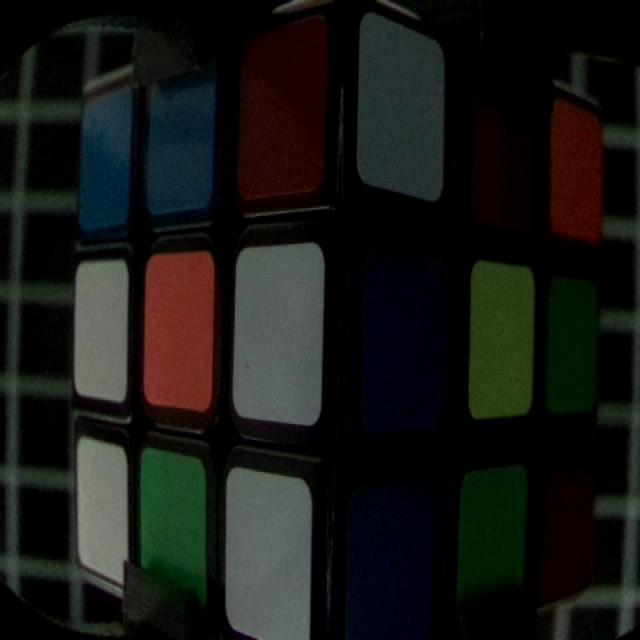b: (351, 484, 432, 634), (147, 39, 217, 206), (365, 262, 444, 408), (82, 87, 134, 225)
g: (143, 449, 207, 619), (459, 470, 528, 622), (552, 277, 595, 402)
o: (149, 266, 214, 407), (558, 107, 604, 233)
r: (238, 17, 324, 194), (468, 61, 540, 222), (545, 454, 591, 576)
w: (362, 20, 446, 192), (238, 250, 323, 416), (229, 472, 309, 640), (76, 436, 132, 578), (74, 263, 128, 397)
y: (472, 260, 537, 415)
